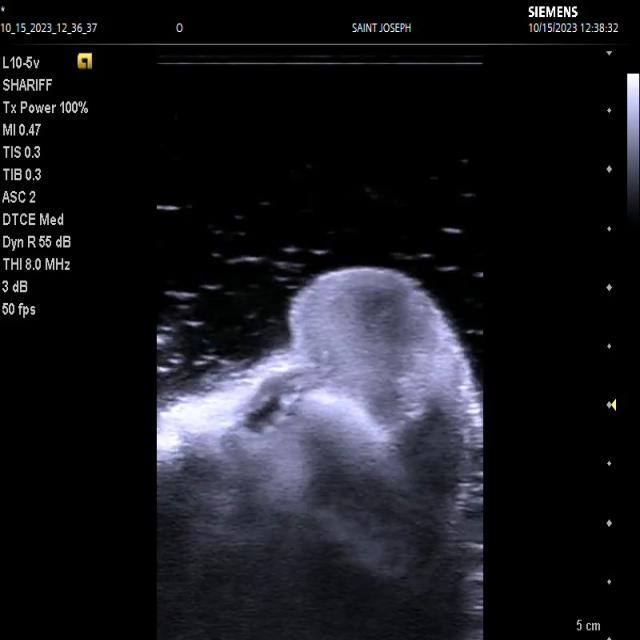tissue: (154, 265, 475, 618)
